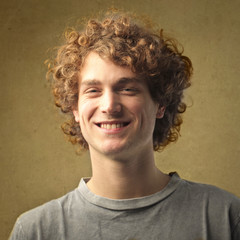teen: (62, 40, 152, 152)
